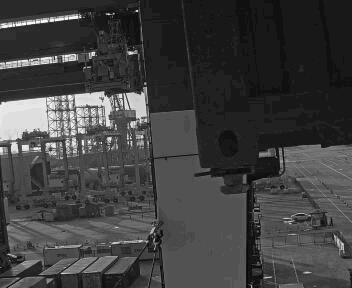twist_lock_1: (222, 129, 238, 146)
